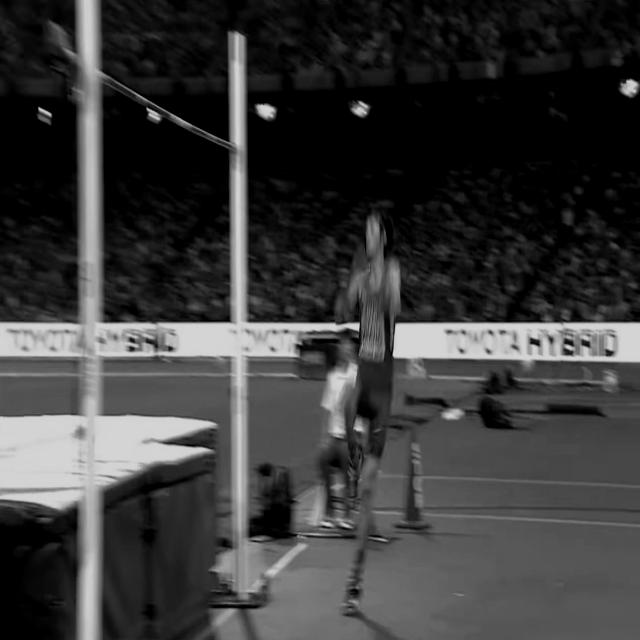jump: (340, 203, 401, 616)
